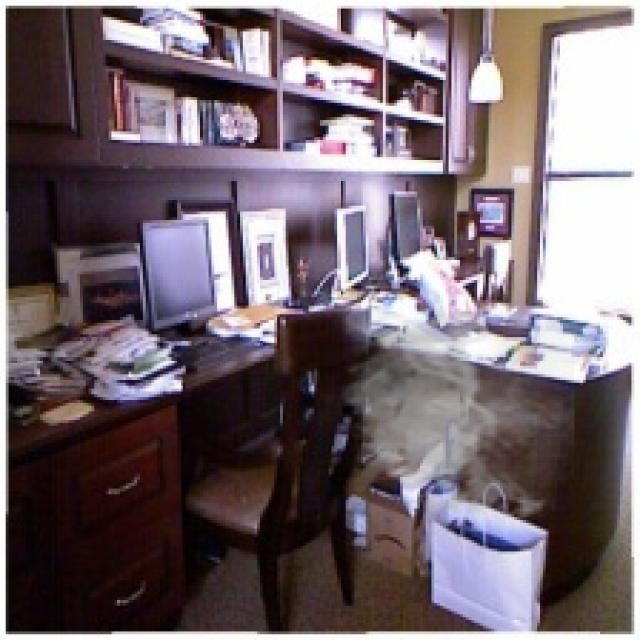smoke: (337, 306, 574, 526)
